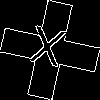X: (25, 25, 68, 77)
